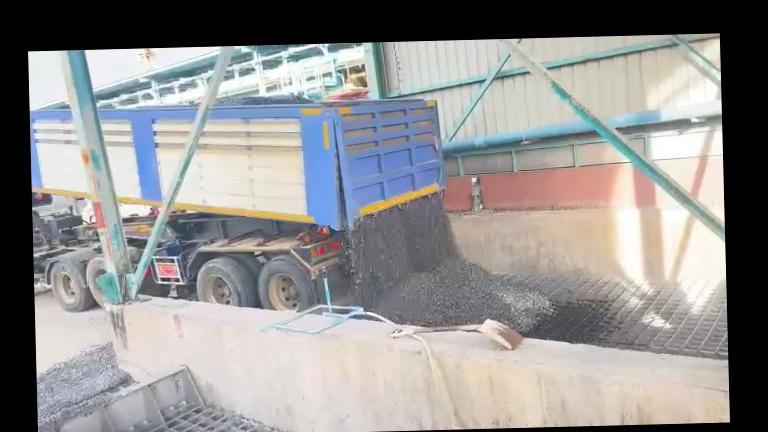gravel: (346, 196, 551, 331), (37, 343, 131, 431), (220, 95, 316, 104)
